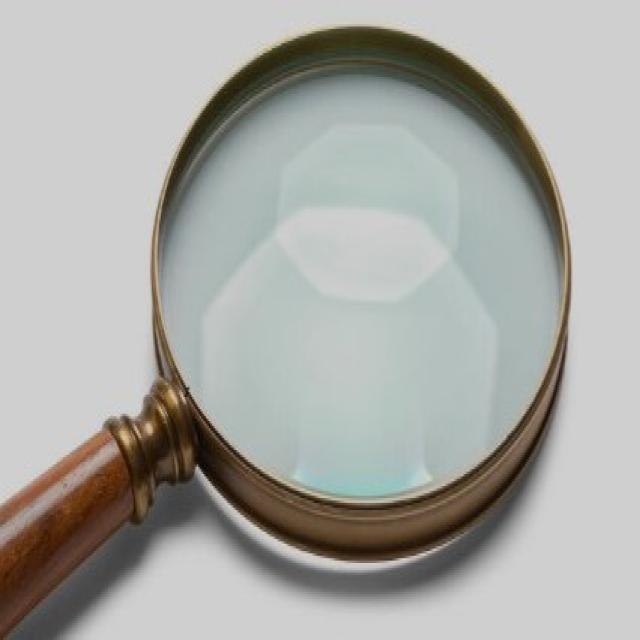electronic: (0, 16, 577, 640)
